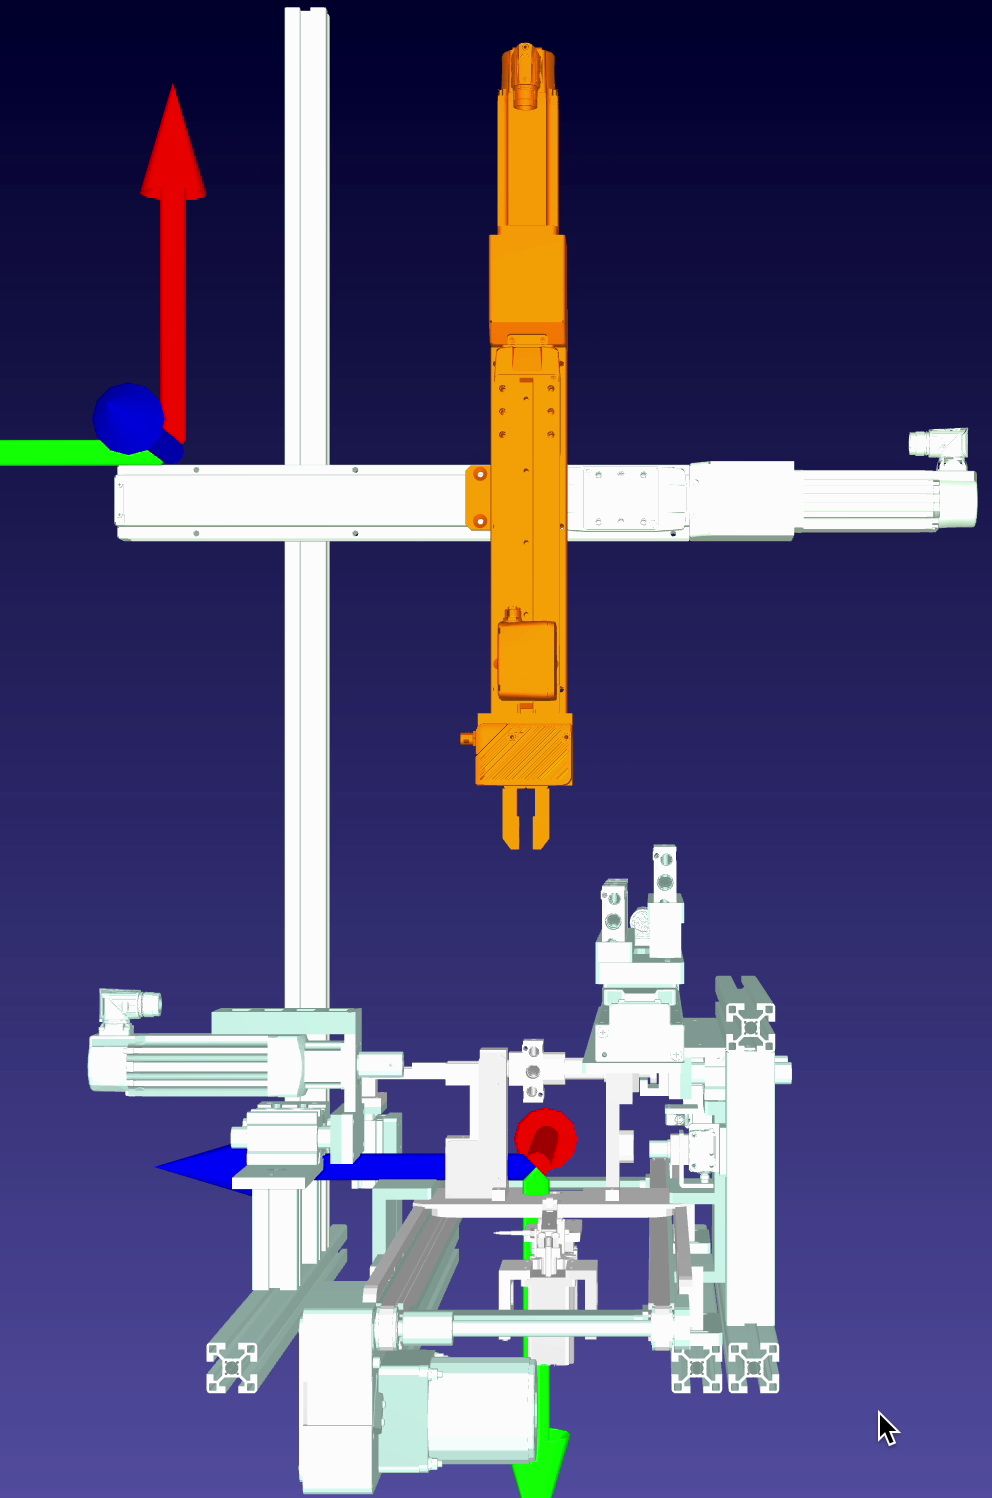Gripper: (446, 695, 604, 856)
